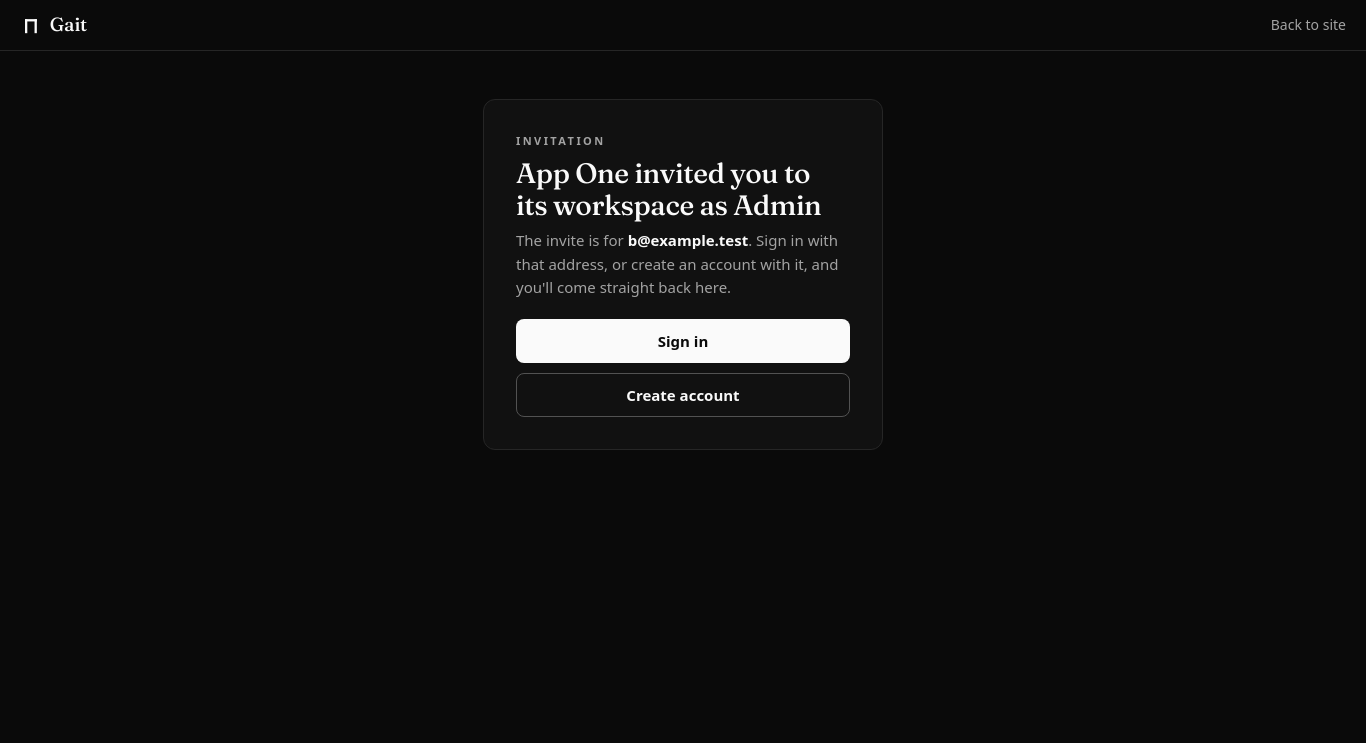
it: not signed in › Create account prefills the invited email
Check: the heading "App One invited you to its workspace as Admin" is shown, box [516,157,850,221]
Click the button "Create account".
click(683, 395)  # box [516,373,850,417]
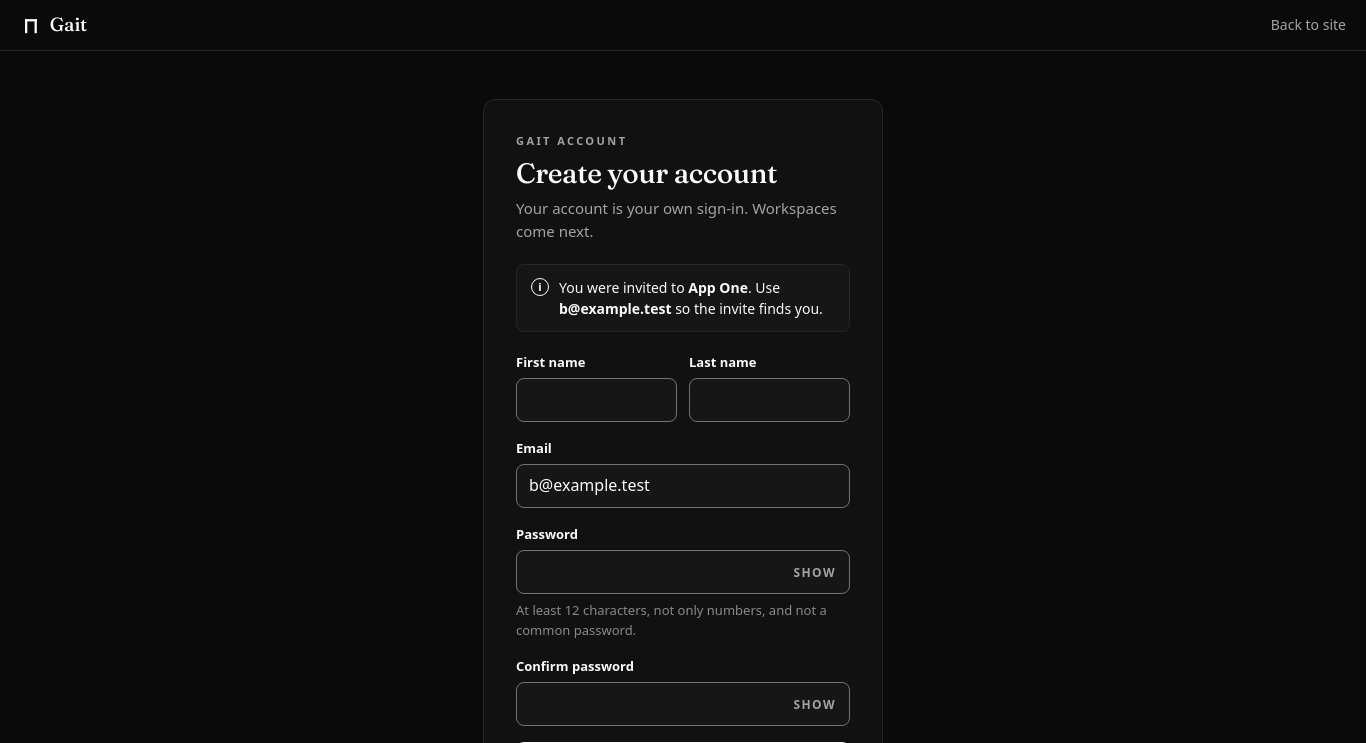
Check: the field showing "b@example.test" is shown, box [516,464,850,508]
